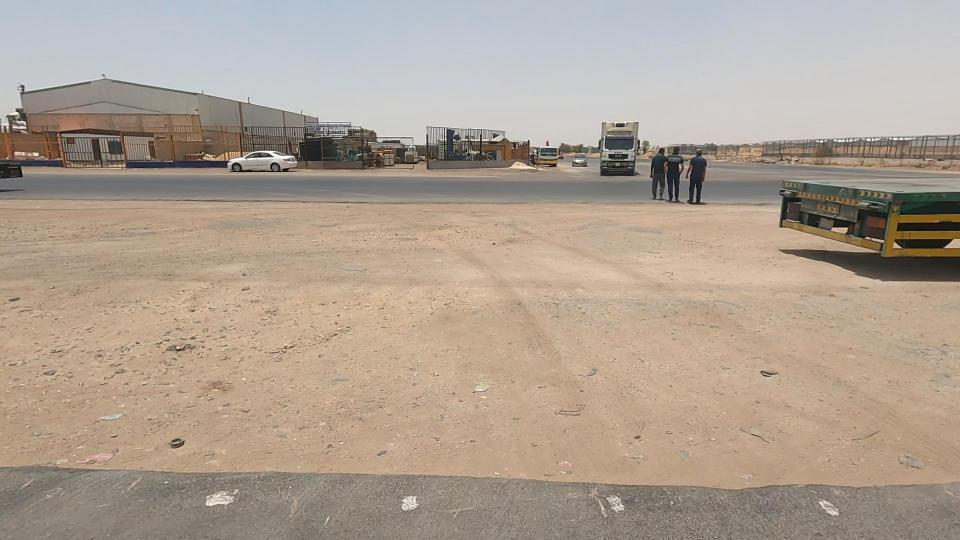CONSTRUCTION_ROAD: (0, 61, 636, 534), (338, 65, 960, 540)
